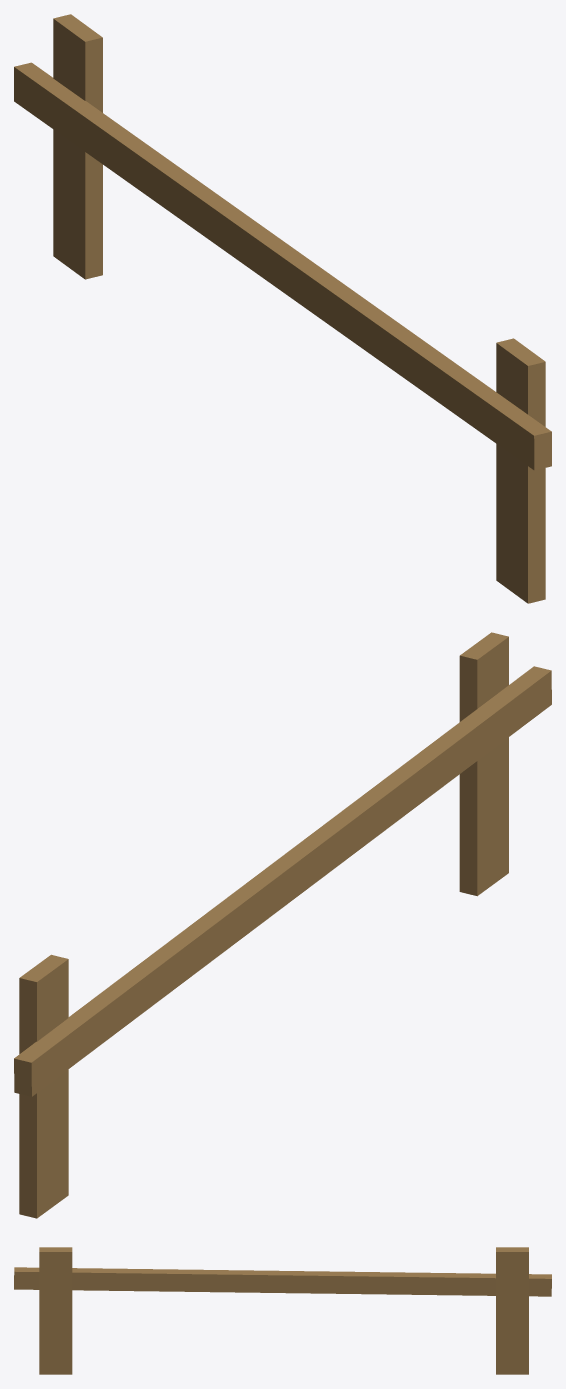
The model's file is fance.fbx.
The picture shows the model from 3 angles, top to bottom: view 1: azimuth 30°, elevation 25°; view 2: azimuth 150°, elevation 25°; view 3: azimuth 270°, elevation 25°; orthographic projection. The views are drawn at different scales.
Visible parts, largest first — view 1: fence.009; view 2: fence.009; view 3: fence.009.
Part boxes in pixels (x1,y1,x2,y2): fence.009: (14, 14, 551, 603); fence.009: (14, 632, 551, 1218); fence.009: (14, 1247, 551, 1374).
Size of the model in its own units: 22.67 by 142 by 567.
